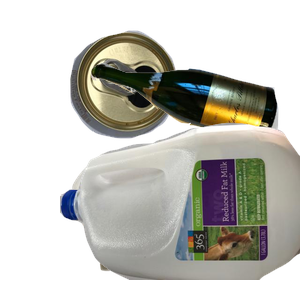glass: (88, 60, 300, 193)
metal: (68, 28, 237, 159)
plastic: (60, 120, 300, 300)
trash: (70, 149, 254, 300)
